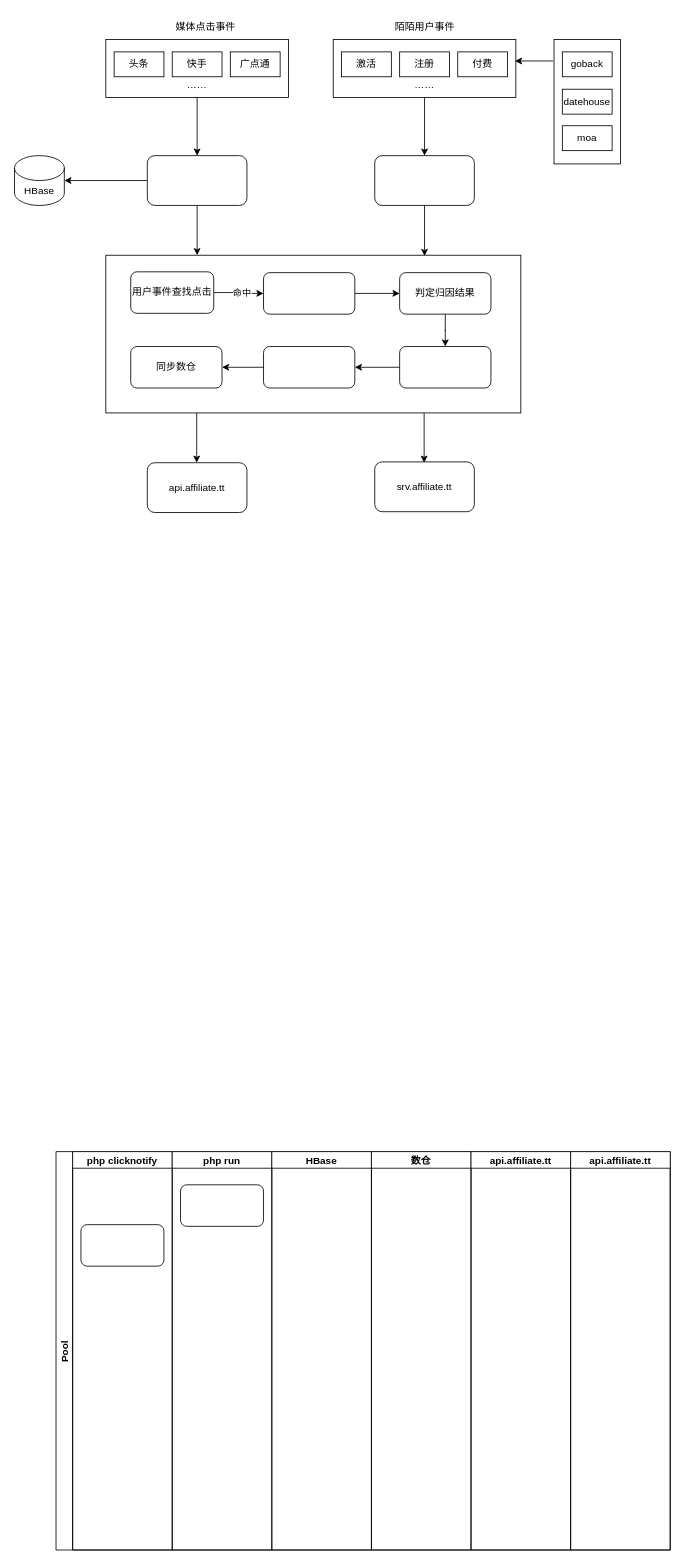
Some shapes in this 685 by 1565 pixel diagram are drawn without their labels. The shapes that lost their labels are listed below. From the top down, each one's centre as x and y in pixels, then its label:
[196,180]: api clicknotify
[424,180]: api run
[309,293]: 解析点击事件
[309,367]: 回传
[445,367]: 路由回传逻辑
[222,1205]: 用户事件
[122,1245]: 媒体点击
